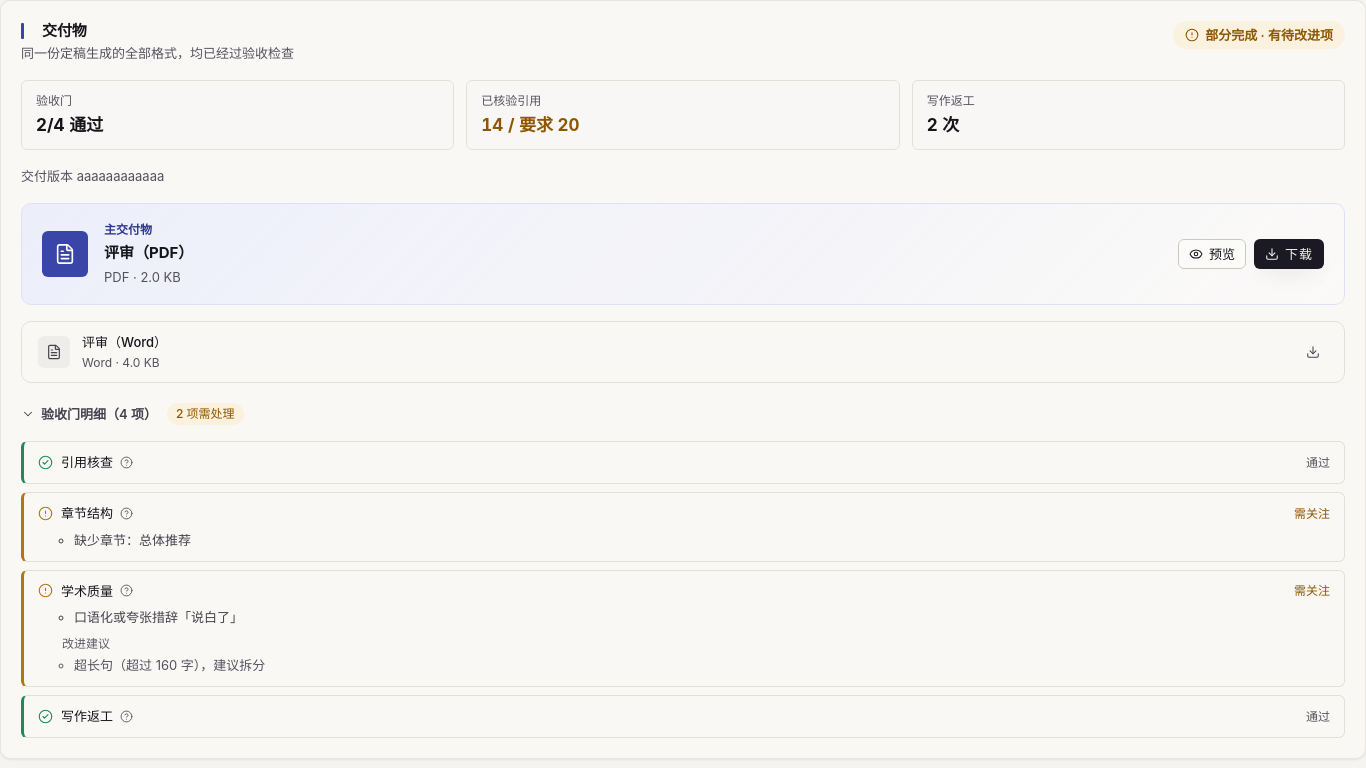
Test: DeliverablesPanel › surfaces download failures
Click the button "下载".
click(1289, 254)  # box left=1254, top=239, right=1324, bottom=269
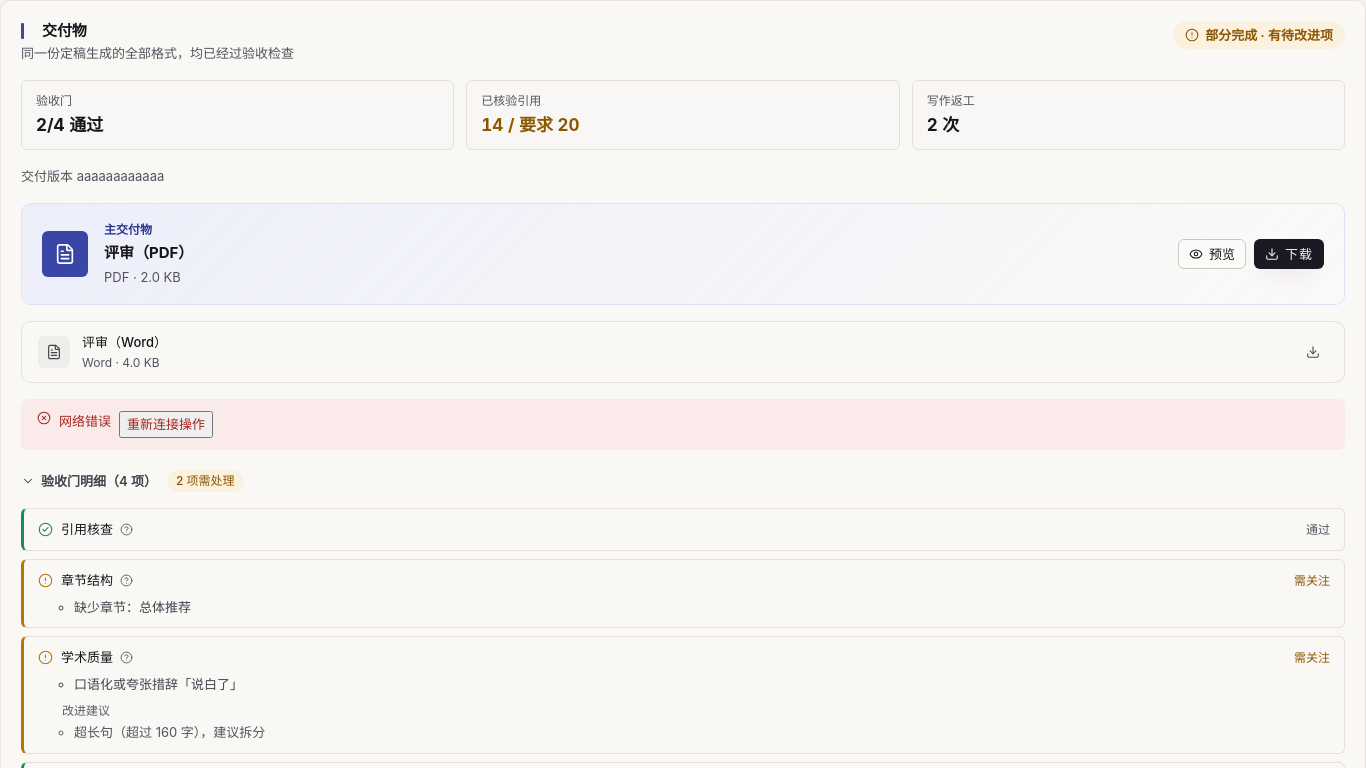
Check: the message shows "网络错误", box left=59, top=413, right=111, bottom=429
